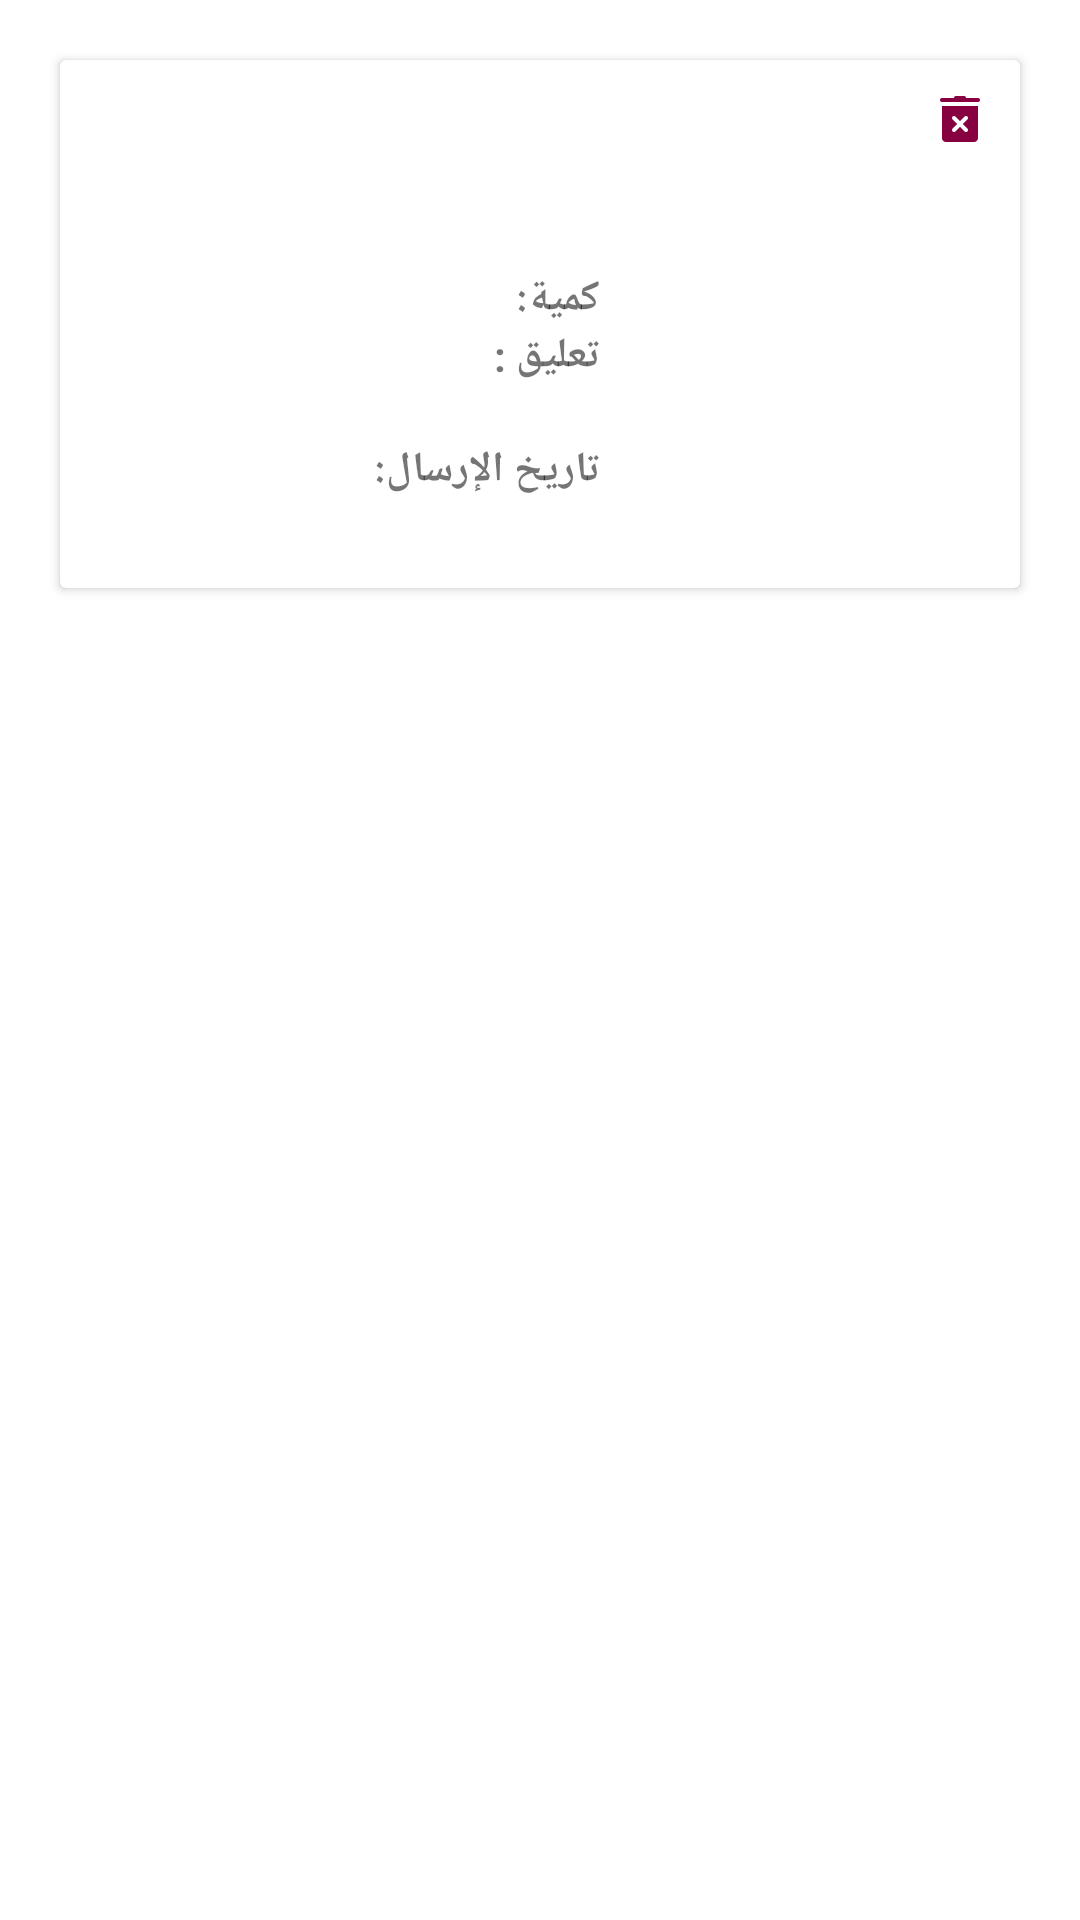

Named icons in this screenshot (1080px×1920px) and their bounding boxes, [x1=x1, y1=y1, x2=x2, y2=y2]:
remove: [x1=940, y1=96, x2=980, y2=142]
